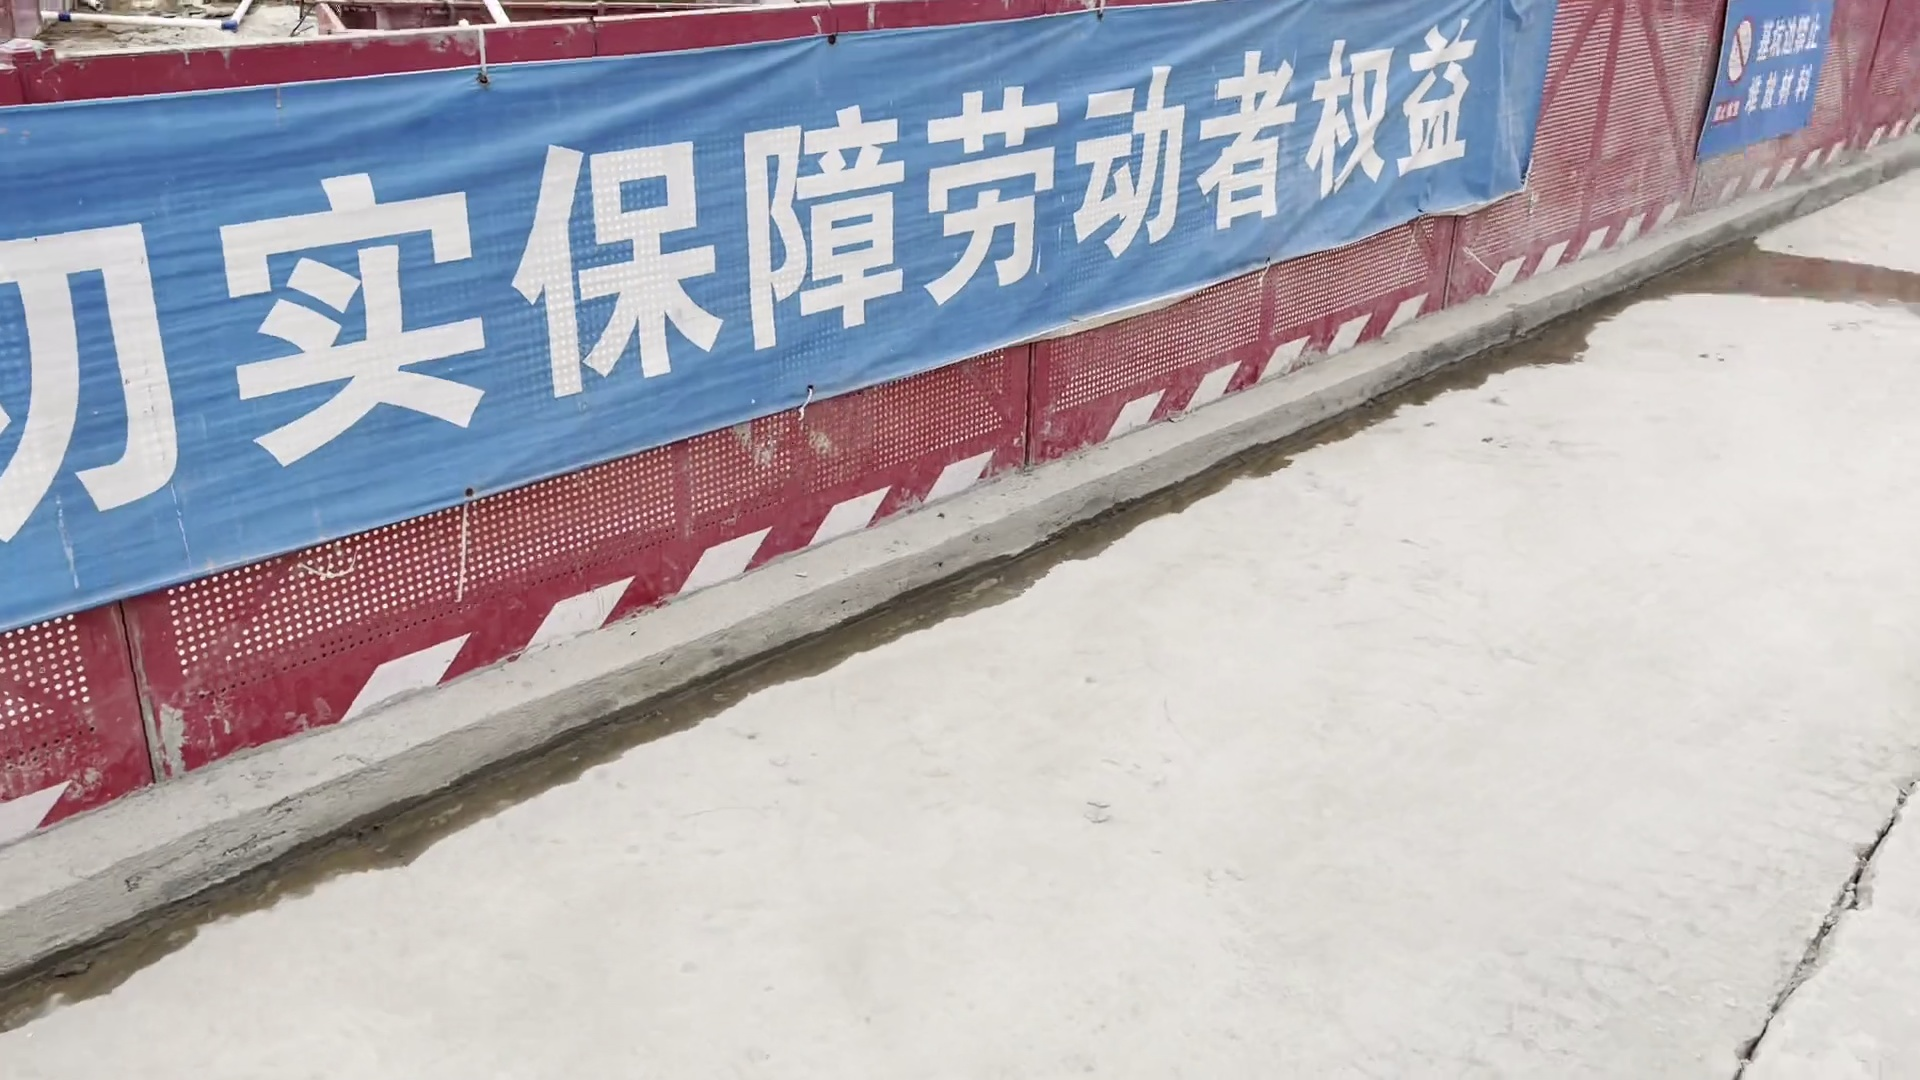slogan: (1, 1, 1611, 393)
